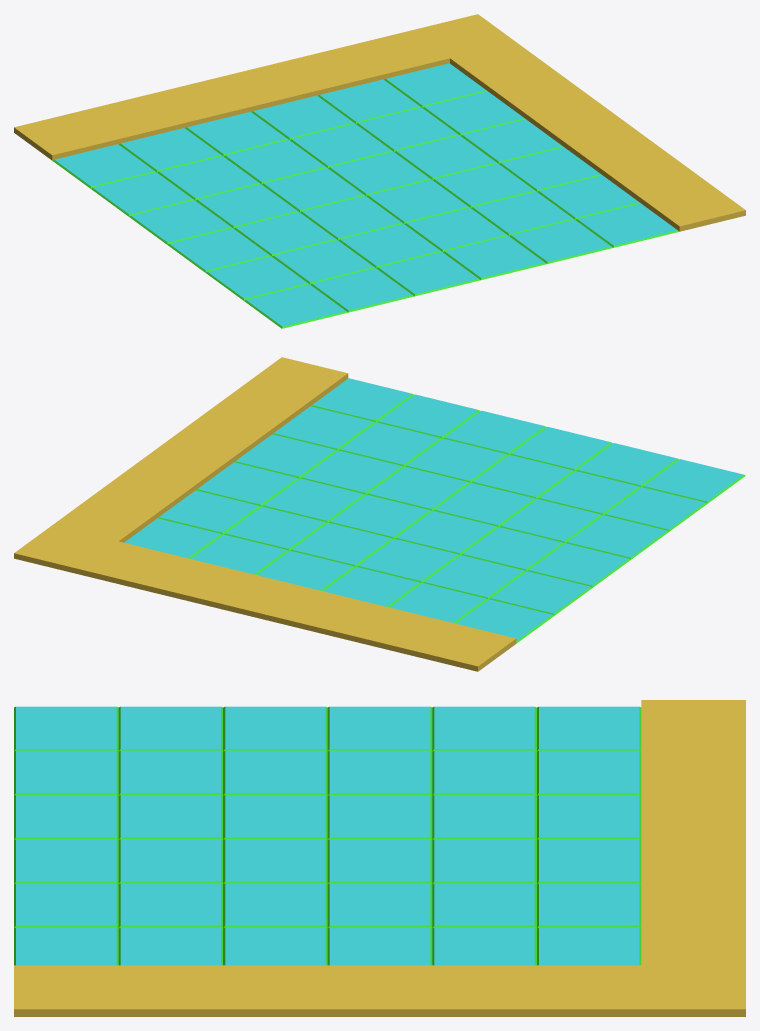
The model's file is Floor_08_Corner.fbx.
3 views of the same model, one above another, from view 1: azimuth 30°, elevation 25°; view 2: azimuth 150°, elevation 25°; view 3: azimuth 270°, elevation 25° (orthographic). The views are drawn at different scales.
Parts seen in each view (by area): view 1: Floor_08_Corner; view 2: Floor_08_Corner; view 3: Floor_08_Corner.
Part boxes in pixels (box(x1,y1,x2,y2)): Floor_08_Corner: box(14, 14, 745, 328); Floor_08_Corner: box(14, 357, 745, 671); Floor_08_Corner: box(14, 700, 745, 1016).
Size of what is drawn, in the model's own units: 457 by 5.08 by 457.
